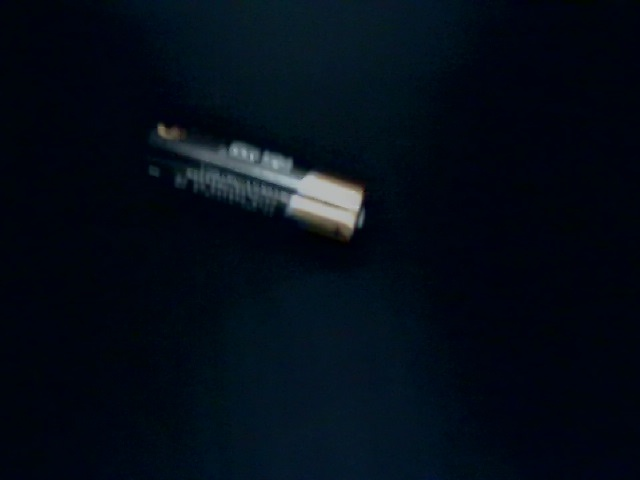YHLJ: (409, 309, 525, 467)
